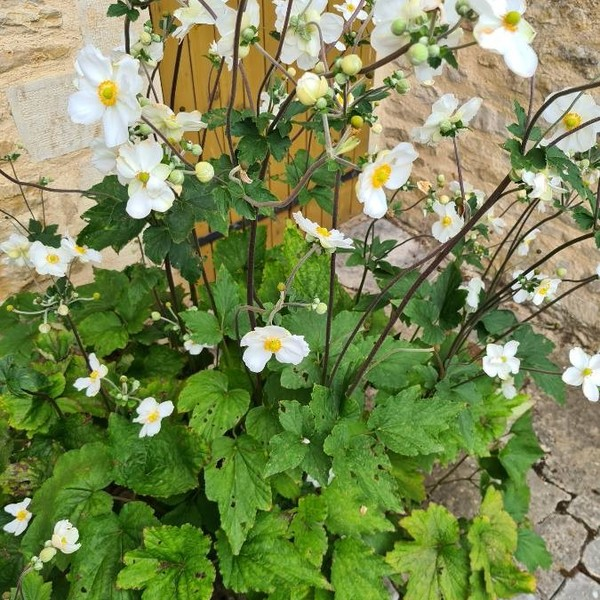obstacle: (14, 45, 494, 568)
